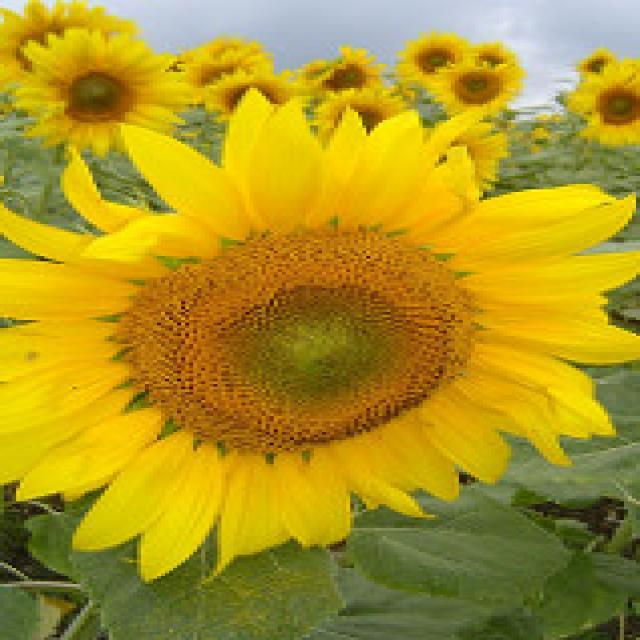sunflower: (0, 85, 636, 585), (15, 28, 190, 158), (2, 0, 134, 91), (428, 106, 509, 199), (564, 60, 640, 147), (427, 59, 525, 117), (314, 86, 408, 138), (205, 66, 292, 122), (186, 39, 276, 86), (398, 32, 470, 84), (327, 48, 382, 99), (474, 41, 520, 70), (576, 49, 613, 79)
